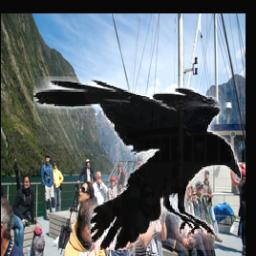Crow: (33, 76, 242, 250)
